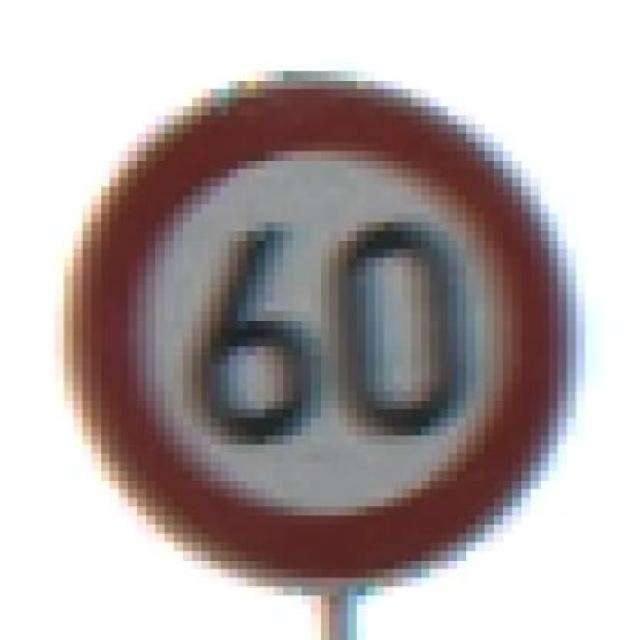forb_speed_over_60: (85, 86, 557, 579)
